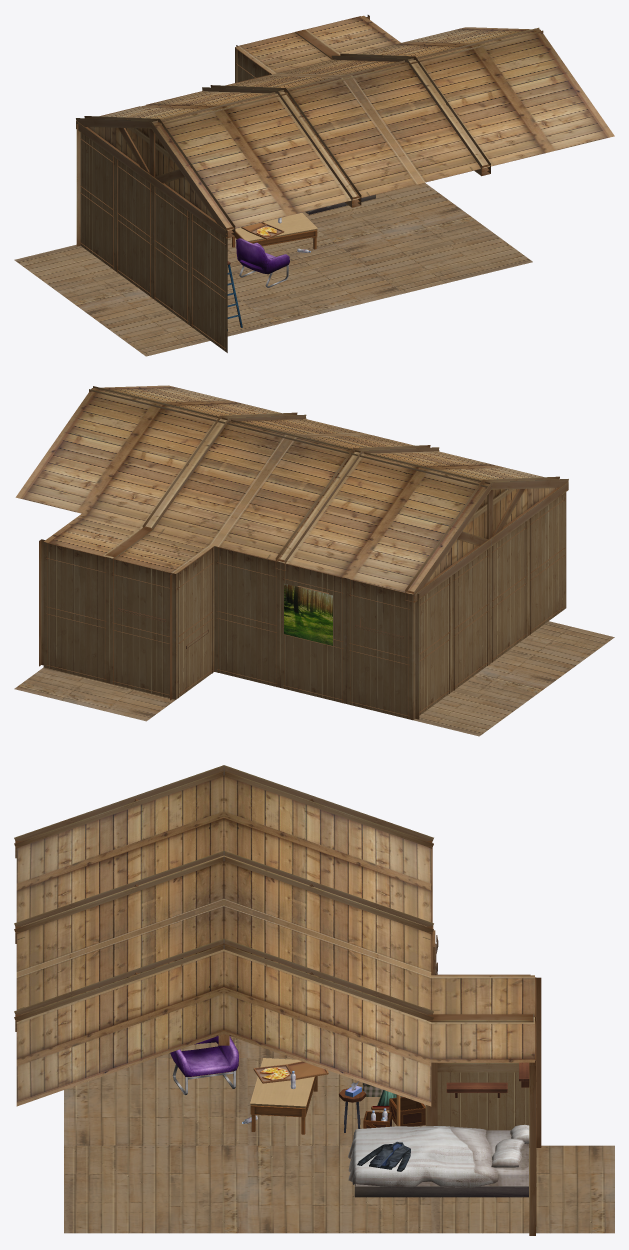
Rendered from ShaShouJia_01.FBX.
3 renders of one model, top to bottom at view 1: azimuth 30°, elevation 25°; view 2: azimuth 150°, elevation 25°; view 3: azimuth 270°, elevation 25°, orthographic. The views are drawn at different scales.
Parts seen in each view (by area): view 1: ShaShouJia_01_changjing_01, ShaShouJia_01_changjing_02; view 2: ShaShouJia_01_changjing_01; view 3: ShaShouJia_01_changjing_01, ShaShouJia_01_changjing_02.
Boxes of the visible parts, bbox=[...] form: ShaShouJia_01_changjing_01: bbox=[14, 15, 614, 356]; ShaShouJia_01_changjing_02: bbox=[227, 213, 317, 330]; ShaShouJia_01_changjing_01: bbox=[14, 385, 614, 736]; ShaShouJia_01_changjing_01: bbox=[14, 765, 614, 1235]; ShaShouJia_01_changjing_02: bbox=[242, 1058, 529, 1134].
Bounding box in the file's own units: 3097 × 1166 × 2559.
